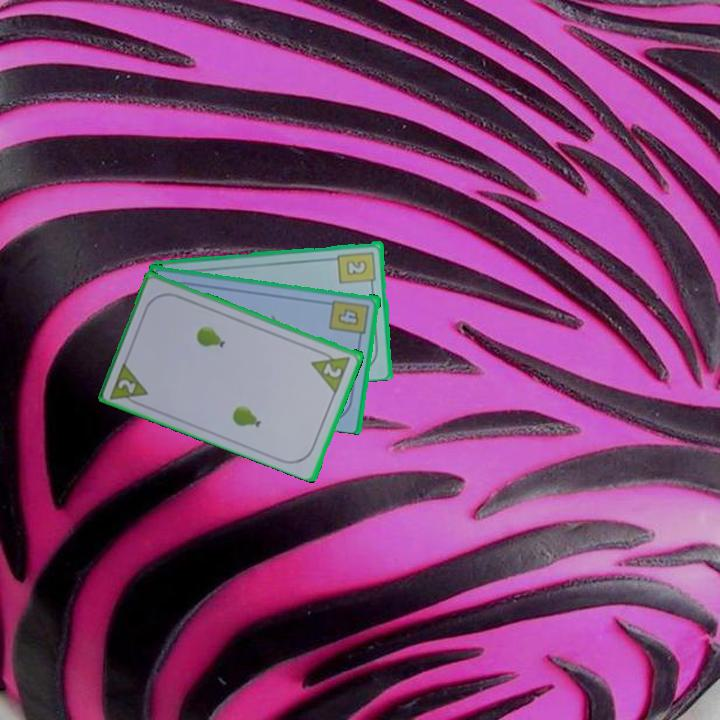2b: (335, 248, 379, 290)
2p: (107, 357, 152, 410), (320, 359, 345, 381)
4b: (327, 296, 372, 342)
